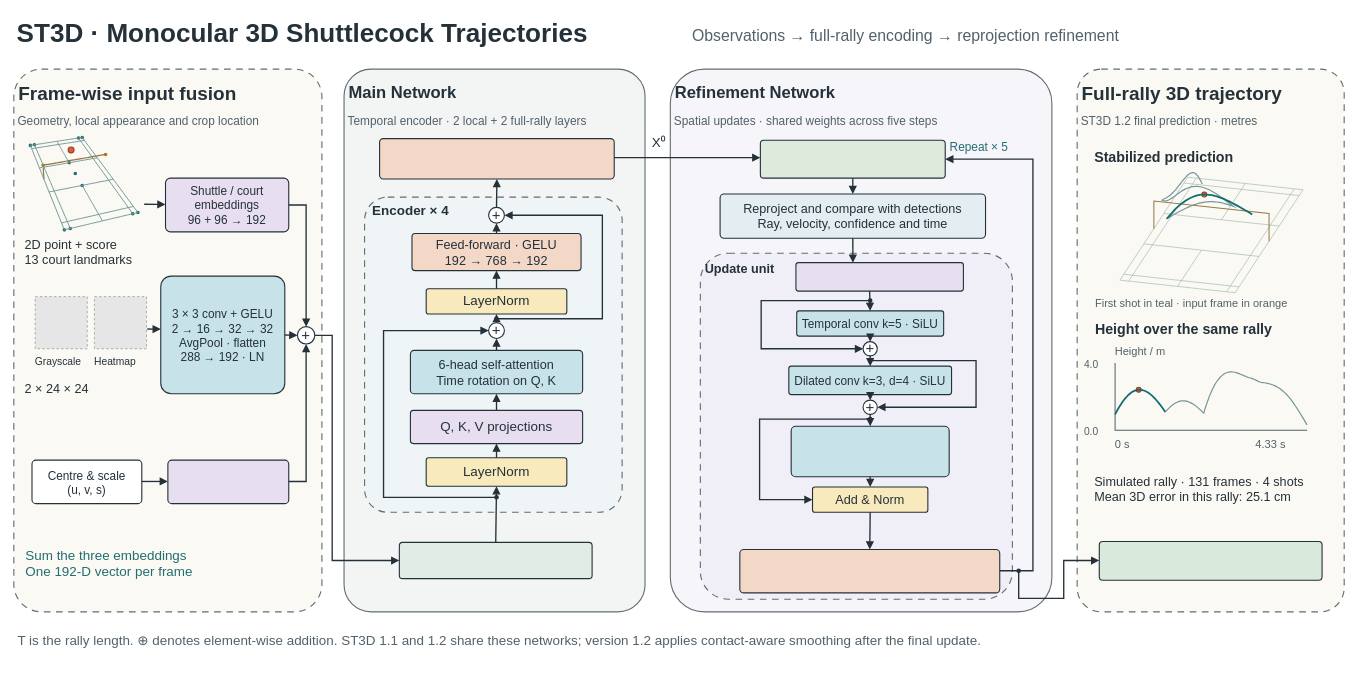
Some shapes in this 1359 by 675 pixel diagram are drawn without their labels. Grey dashed boxes stand in for pictures. The shapes that lost their labels are listed below. From the top down, each one's centre as x and y in pixels, then its label:
the point at 496,158: Per-frame head · LN → MLP 192 → 192 → 3
the point at 852,158: Current 3D trajectory Xᵏ
the point at 879,276: Linear 31 → 32
the point at 869,451: 16-frame mean pooling 4-head global attention Broadcast to all frames
the point at 228,481: Linear projection 3 → 192
the point at 495,560: Frame tokens T × 192
the point at 869,570: MLP 32 → 8 · gated displacement Xᵏ⁺¹ = Xᵏ + ΔXᵏ
the point at 1210,560: Five-round output X⁵ Contact-aware smoothing
